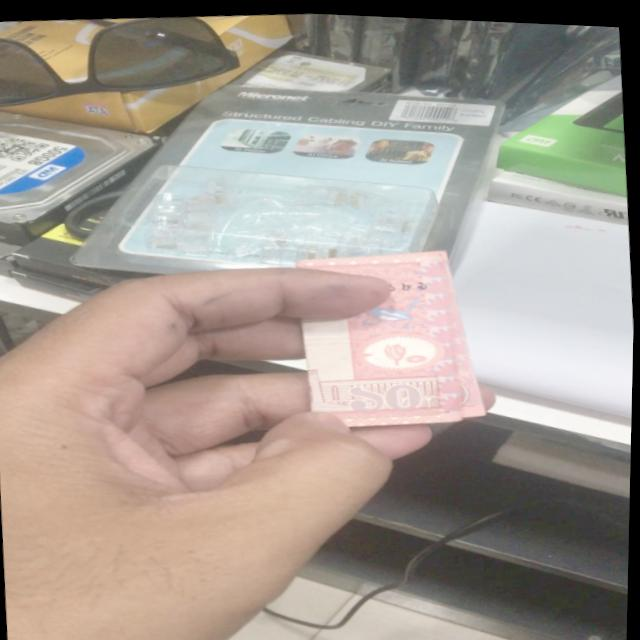Taka: (299, 246, 474, 424)
